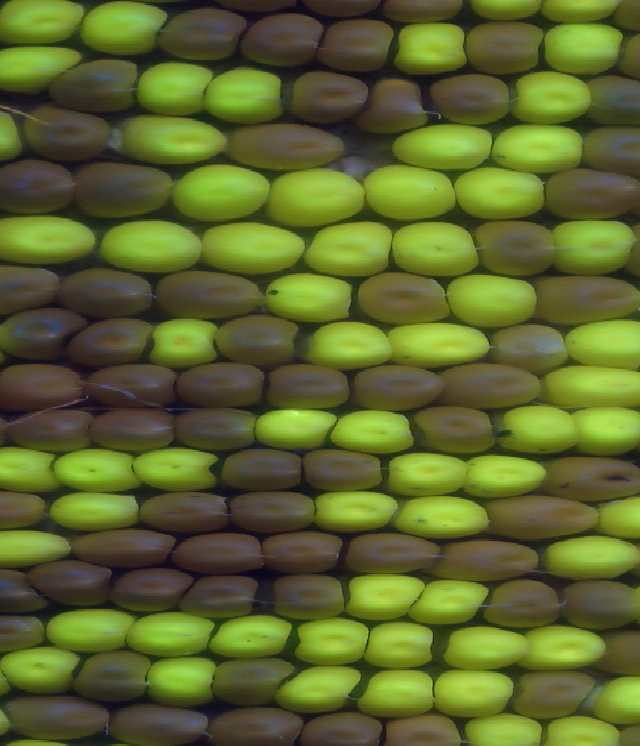fluorescent: (195, 219, 309, 276), (262, 165, 372, 224), (96, 214, 207, 272), (120, 111, 231, 168), (307, 217, 402, 280), (170, 163, 271, 222), (259, 265, 359, 324), (362, 164, 460, 221), (388, 221, 486, 277), (390, 121, 498, 171), (455, 166, 553, 221), (446, 272, 543, 327), (382, 320, 493, 368), (490, 123, 585, 178), (0, 214, 102, 265), (539, 361, 640, 411), (81, 1, 171, 57), (282, 656, 363, 718), (460, 448, 553, 501), (495, 403, 583, 459), (550, 221, 640, 275), (135, 58, 218, 116), (0, 643, 89, 697), (207, 64, 283, 127), (0, 42, 88, 96), (123, 605, 218, 655), (394, 494, 494, 541), (45, 604, 145, 651), (541, 22, 625, 77), (130, 444, 221, 494), (142, 656, 220, 714), (310, 487, 405, 534), (338, 571, 421, 624), (332, 404, 417, 455), (546, 534, 640, 580), (512, 70, 595, 122), (250, 403, 338, 452), (45, 487, 142, 531), (49, 448, 148, 491), (408, 576, 493, 626), (433, 667, 516, 717), (442, 625, 533, 670), (0, 1, 91, 45), (569, 405, 640, 461), (396, 21, 475, 71), (560, 319, 640, 367), (208, 615, 297, 658), (521, 627, 604, 673), (385, 450, 468, 494), (308, 323, 391, 367), (292, 617, 371, 661), (0, 445, 66, 497), (365, 621, 438, 667), (360, 671, 437, 714), (152, 317, 218, 364), (0, 530, 83, 563), (591, 673, 640, 724), (549, 714, 624, 746), (465, 717, 542, 746), (597, 496, 640, 541), (541, 1, 622, 21), (468, 1, 539, 20)
nonfluorescent: (72, 161, 181, 219), (153, 3, 252, 66), (531, 271, 640, 326), (231, 122, 348, 173), (439, 534, 543, 588), (46, 56, 142, 113), (352, 270, 453, 324), (54, 268, 158, 320), (483, 493, 603, 538), (542, 453, 640, 508), (507, 669, 606, 723), (0, 692, 112, 739), (340, 530, 443, 581), (434, 361, 545, 408), (236, 13, 329, 69), (288, 69, 373, 130), (541, 168, 640, 219), (470, 219, 557, 277), (162, 270, 269, 317), (346, 362, 450, 410), (349, 74, 433, 133), (427, 74, 522, 126), (225, 488, 330, 534), (0, 363, 98, 412), (0, 154, 78, 215), (19, 107, 108, 160), (212, 318, 308, 367), (6, 408, 100, 458), (0, 308, 85, 363), (104, 562, 193, 614), (415, 406, 501, 459), (68, 315, 157, 366), (463, 25, 548, 78), (83, 366, 182, 411), (202, 703, 308, 745), (183, 569, 264, 623), (211, 659, 295, 711), (107, 704, 213, 745), (272, 573, 356, 623), (25, 562, 116, 608), (318, 16, 394, 71), (143, 492, 235, 537), (272, 363, 354, 413), (168, 533, 273, 572), (181, 366, 274, 410), (260, 530, 348, 576), (494, 327, 576, 375), (78, 654, 158, 703), (299, 448, 388, 492), (489, 579, 561, 633), (88, 408, 178, 451), (175, 405, 262, 449), (77, 532, 180, 567), (218, 450, 309, 489), (0, 262, 62, 319), (293, 714, 390, 746), (583, 124, 640, 178), (384, 714, 474, 746), (582, 75, 640, 124), (0, 570, 53, 619), (594, 627, 640, 678), (382, 1, 466, 26), (0, 612, 48, 652), (0, 493, 49, 528)
